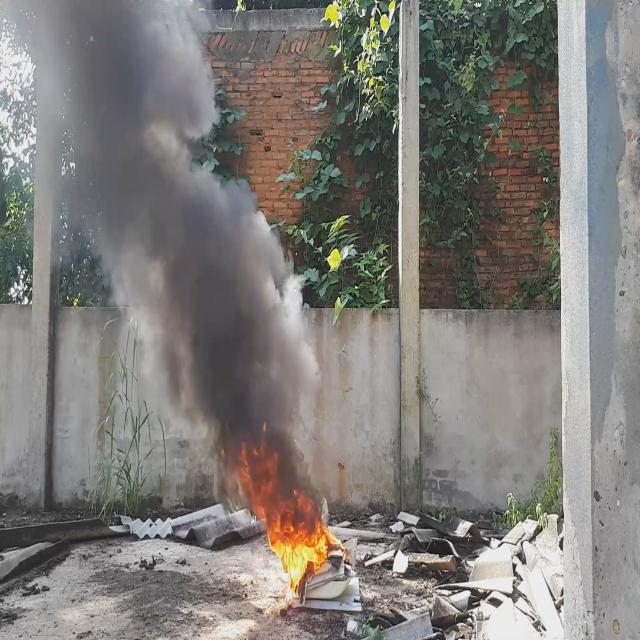Fire: (238, 456, 329, 594)
Smoke: (0, 0, 320, 504)
